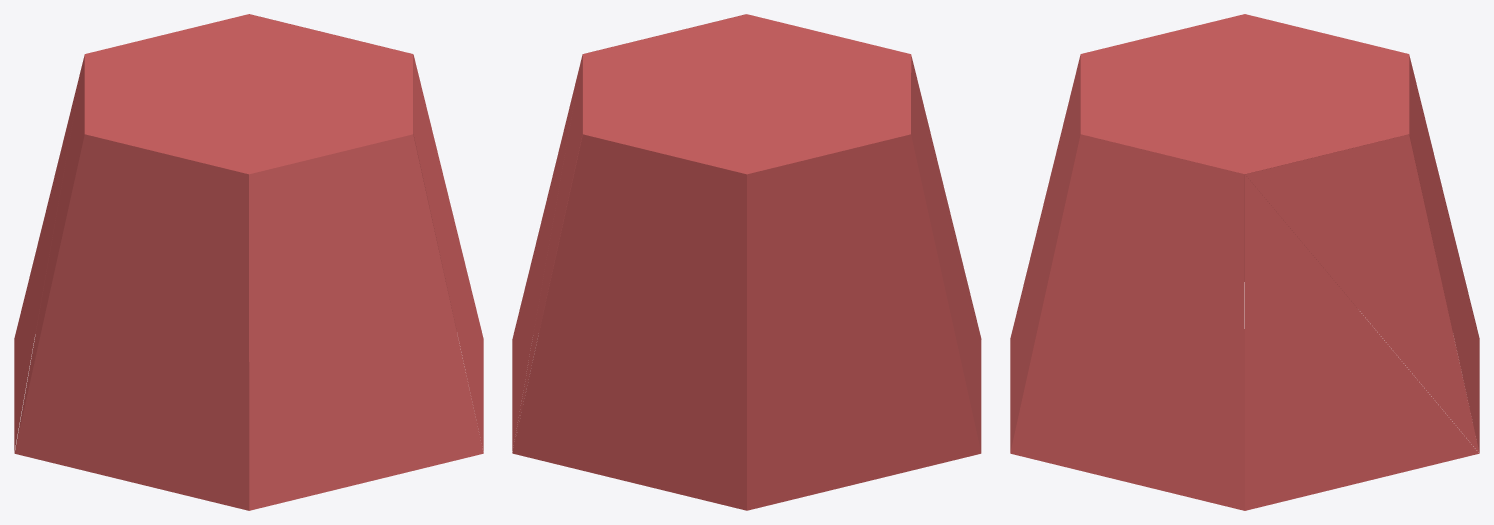
File: fl_koma_u.glb
The picture shows the model from 3 angles, left to right: view 1: azimuth 30°, elevation 25°; view 2: azimuth 150°, elevation 25°; view 3: azimuth 270°, elevation 25°; orthographic projection.
Visible parts, largest first — view 1: fl_koma_u_col; view 2: fl_koma_u_col; view 3: fl_koma_u_col.
Part boxes in pixels (x1,y1,x2,y2): fl_koma_u_col: (14,14,483,510); fl_koma_u_col: (512,14,981,510); fl_koma_u_col: (1010,14,1479,510).
Bounding box in the file's own units: 3.25 × 2 × 2.82.
